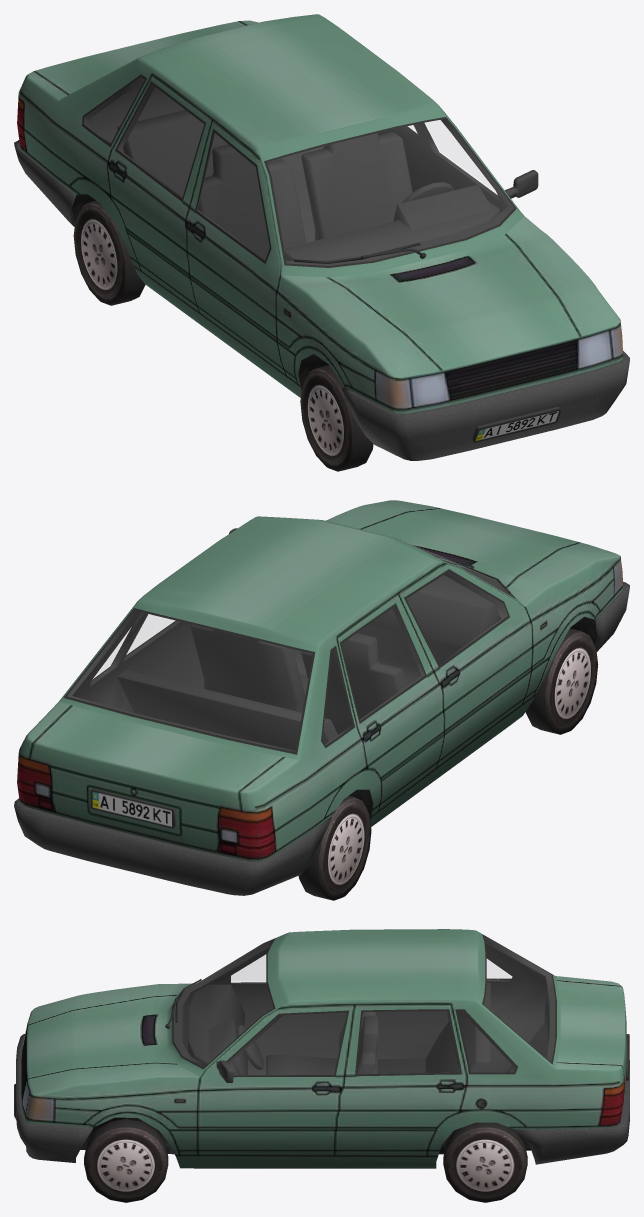
Rendered from fiat-duna-low-poly.glb.
The picture shows the model from 3 angles, top to bottom: view 1: azimuth 30°, elevation 25°; view 2: azimuth 150°, elevation 25°; view 3: azimuth 270°, elevation 25°; orthographic projection. The views are drawn at different scales.
Visible parts, largest first — view 1: body_base_colour_0, interior_Material_0, body_black_plastic_0, Cylinder_wheel_0, windows_rubber_0, Cylinder_tire_0, windows_glass_0, front_license_plate_Material.104_0, bottom_Material.002_0, front_license_plate_Material.105_0; view 2: body_base_colour_0, interior_Material_0, body_black_plastic_0, Cylinder_wheel_0, windows_rubber_0, Cylinder_tire_0, front_license_plate_Material.104_0, windows_glass_0, bottom_Material.002_0, front_license_plate_Material.105_0; view 3: body_base_colour_0, interior_Material_0, Cylinder_wheel_0, body_black_plastic_0, windows_rubber_0, Cylinder_tire_0, windows_glass_0, bottom_Material.002_0.
Boxes of the visible parts, <box> form: body_base_colour_0: <box>17,14,623,413</box>; interior_Material_0: <box>83,77,513,265</box>; body_black_plastic_0: <box>14,140,629,460</box>; Cylinder_wheel_0: <box>73,202,373,471</box>; windows_rubber_0: <box>82,74,516,267</box>; Cylinder_tire_0: <box>91,200,372,471</box>; windows_glass_0: <box>408,120,496,193</box>; front_license_plate_Material.104_0: <box>475,411,558,440</box>; bottom_Material.002_0: <box>71,194,396,455</box>; front_license_plate_Material.105_0: <box>472,407,561,442</box>; body_base_colour_0: <box>17,500,623,861</box>; interior_Material_0: <box>67,566,513,751</box>; body_black_plastic_0: <box>14,528,629,895</box>; Cylinder_wheel_0: <box>298,631,598,900</box>; windows_rubber_0: <box>63,540,515,754</box>; Cylinder_tire_0: <box>299,628,580,900</box>; front_license_plate_Material.104_0: <box>92,791,172,826</box>; windows_glass_0: <box>92,546,495,679</box>; bottom_Material.002_0: <box>349,616,596,820</box>; front_license_plate_Material.105_0: <box>90,788,175,828</box>; body_base_colour_0: <box>21,929,626,1168</box>; interior_Material_0: <box>173,936,555,1075</box>; Cylinder_wheel_0: <box>84,1126,527,1202</box>; body_black_plastic_0: <box>16,1034,629,1164</box>; windows_rubber_0: <box>172,934,556,1077</box>; Cylinder_tire_0: <box>84,1119,527,1163</box>; windows_glass_0: <box>191,954,512,986</box>; bottom_Material.002_0: <box>80,1117,605,1154</box>.
Size of the model in its own units: 3.43 by 2.88 by 8.18.
Materials: 12 (6 with a texture image).
